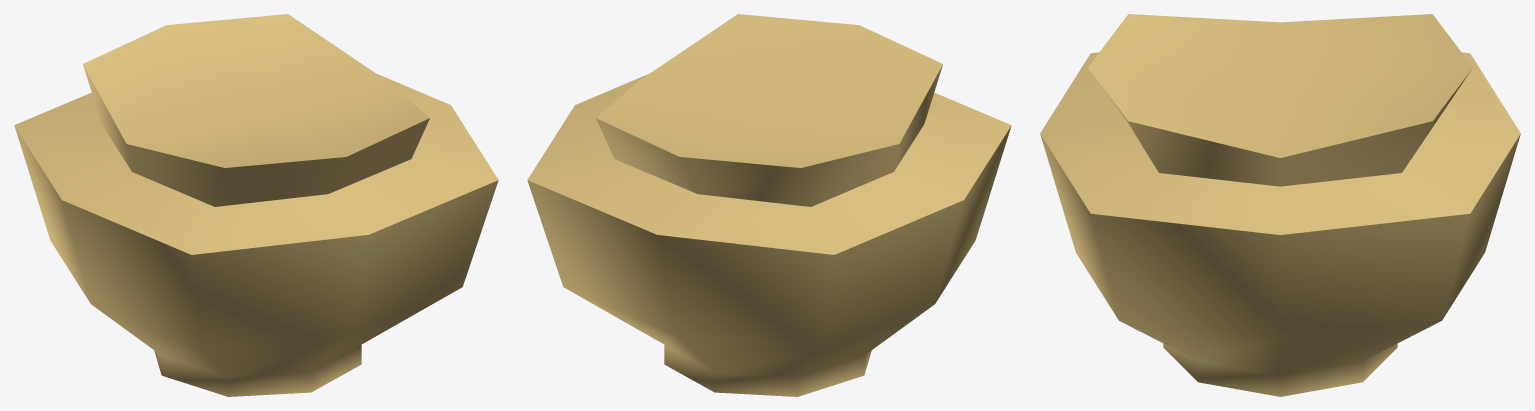
File: PotThing.fbx
3 renders of one model, left to right at view 1: azimuth 30°, elevation 25°; view 2: azimuth 150°, elevation 25°; view 3: azimuth 270°, elevation 25°, orthographic. The views are drawn at different scales.
Visible parts, largest first — view 1: Thing; view 2: Thing; view 3: Thing.
Part boxes in pixels (left/top/right/bottom): Thing: left=14, top=14, right=498, bottom=396; Thing: left=527, top=14, right=1011, bottom=396; Thing: left=1040, top=14, right=1520, bottom=396.
Bounding box in the file's own units: 78.95 × 50.7 × 78.95.
